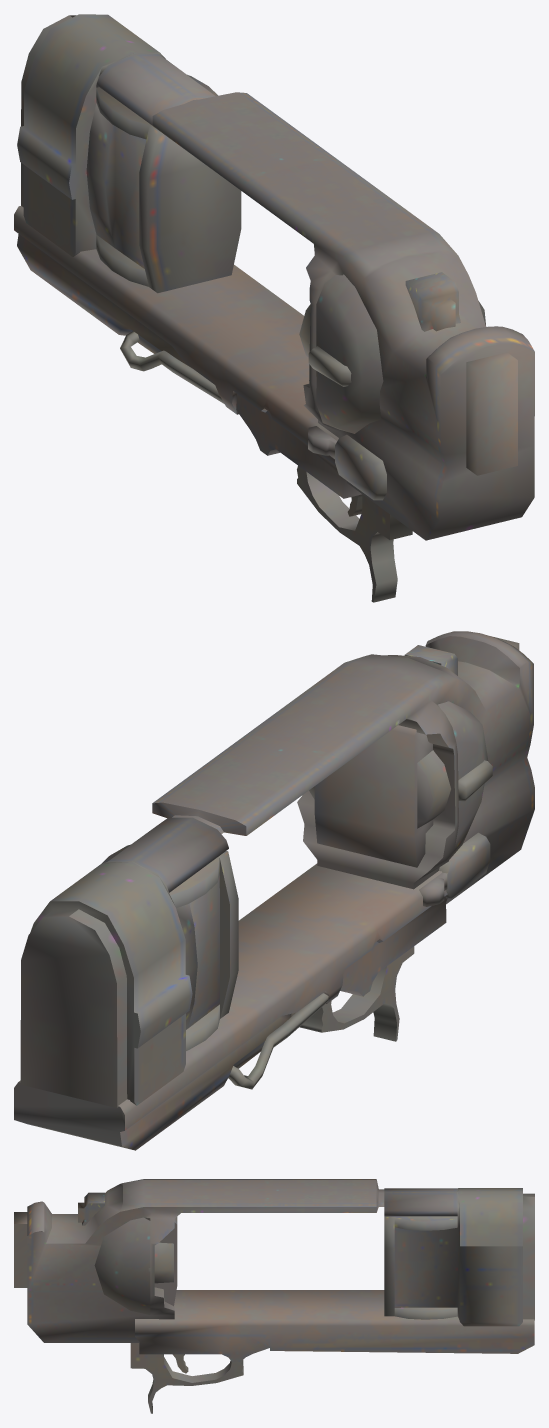
The model's file is body3.obj.
The picture shows the model from 3 angles, top to bottom: view 1: azimuth 30°, elevation 25°; view 2: azimuth 150°, elevation 25°; view 3: azimuth 270°, elevation 25°; orthographic projection. The views are drawn at different scales.
Parts seen in each view (by area): view 1: body3; view 2: body3; view 3: body3.
Part boxes in pixels (x1,y1,x2,y2): body3: (14,14,534,602); body3: (14,631,534,1150); body3: (14,1179,534,1413).
Size of the model in its own units: 6.53 by 14.44 by 30.87.
